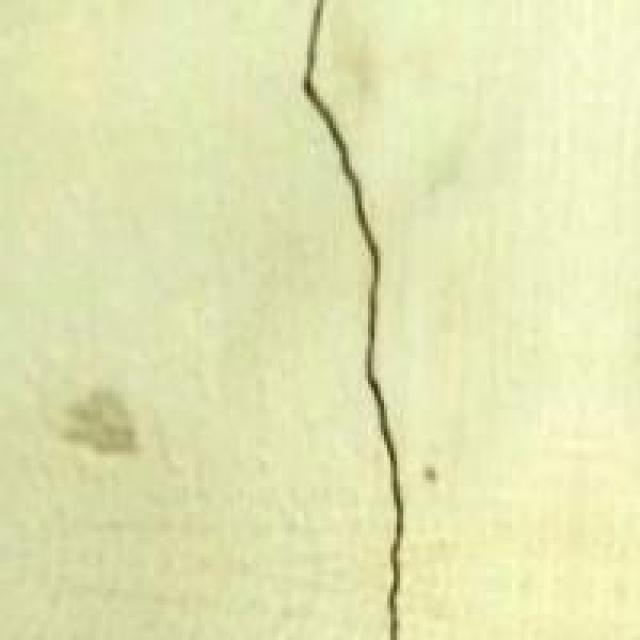crack: (224, 0, 493, 637)
